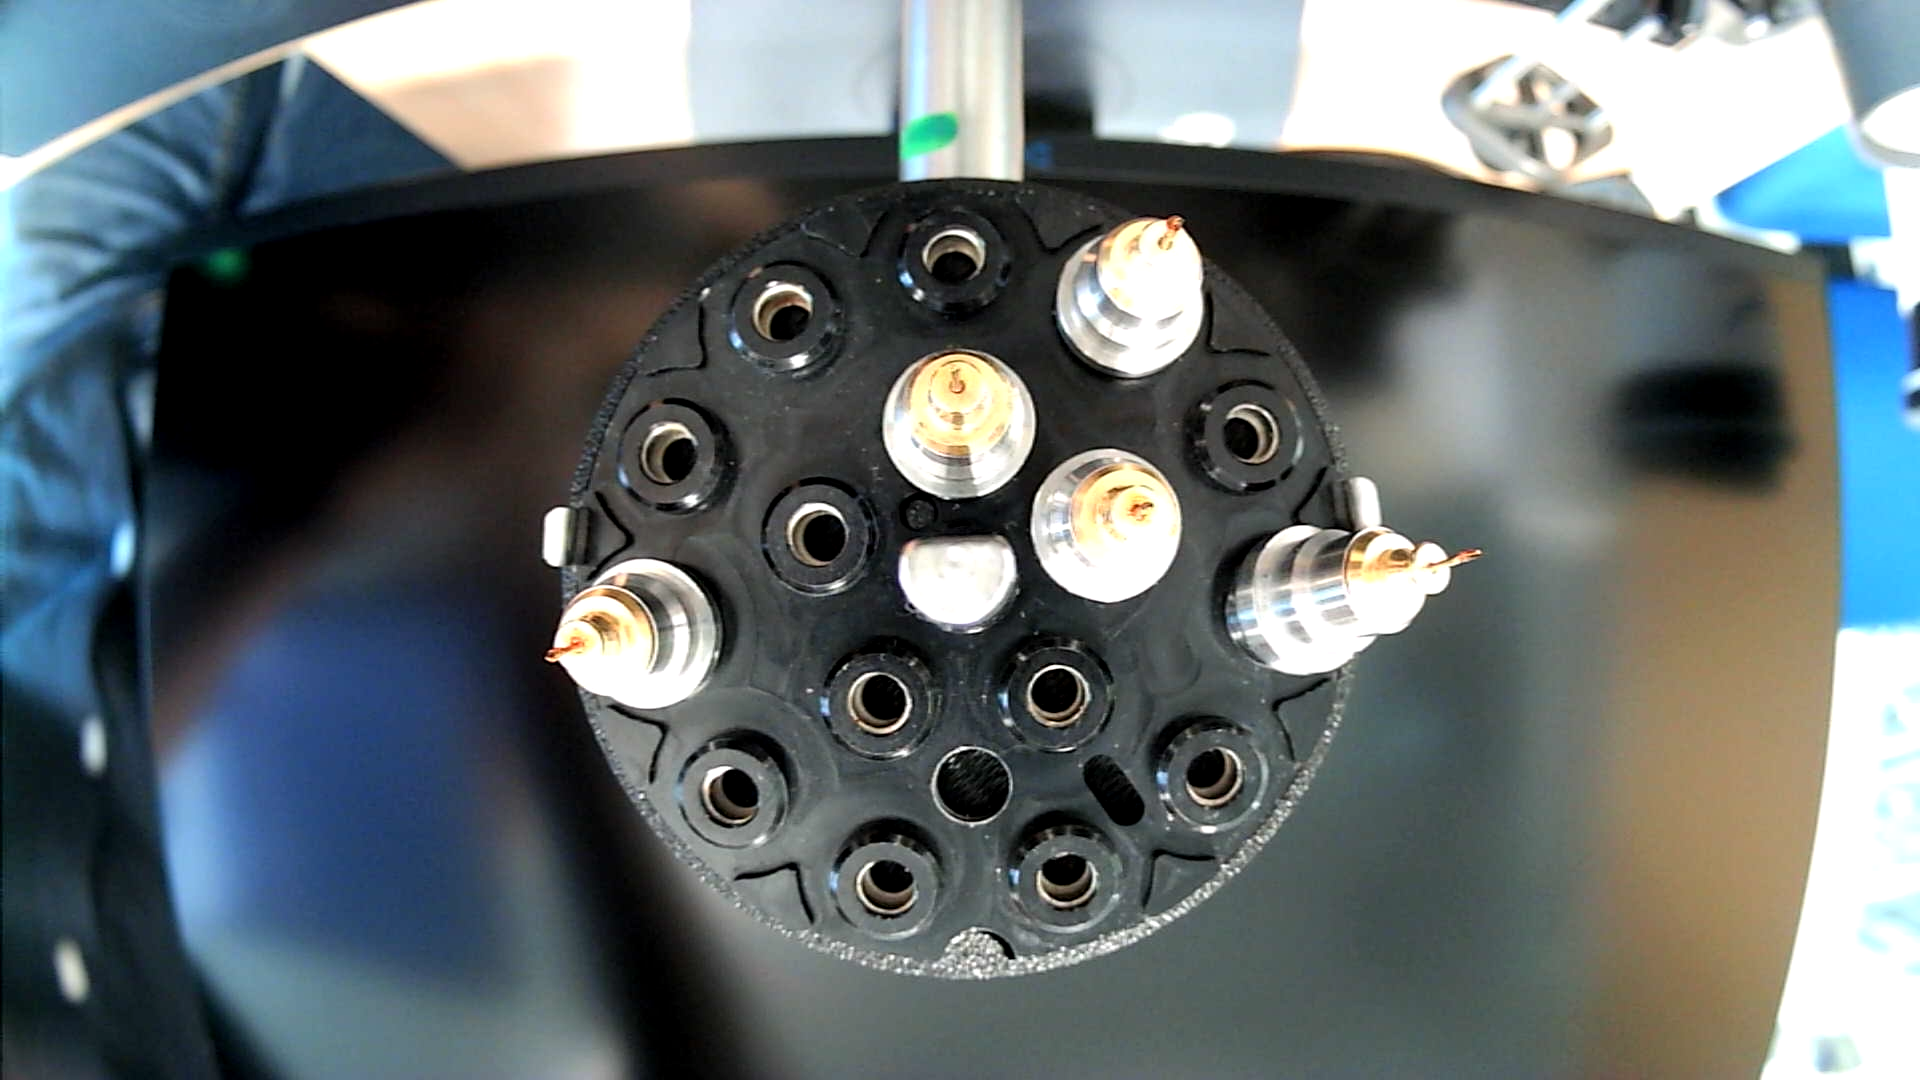empty: (812, 640, 951, 771), (825, 816, 953, 951), (673, 727, 800, 855), (1146, 712, 1273, 840), (721, 257, 851, 382), (760, 469, 881, 603), (612, 393, 736, 520), (1180, 378, 1309, 498), (1010, 812, 1129, 942), (891, 202, 1015, 324), (1000, 637, 1120, 753)
hole: (926, 738, 1015, 829)
misplaced: (1208, 518, 1485, 676)
pin: (543, 555, 725, 715), (1054, 212, 1205, 384), (880, 347, 1038, 501), (1030, 448, 1184, 607)
rod: (891, 530, 1021, 636)
